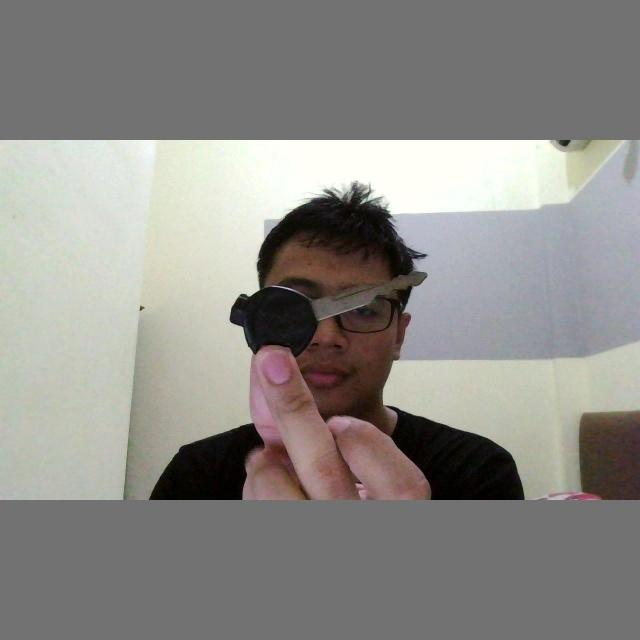Keys: (231, 268, 431, 368)
